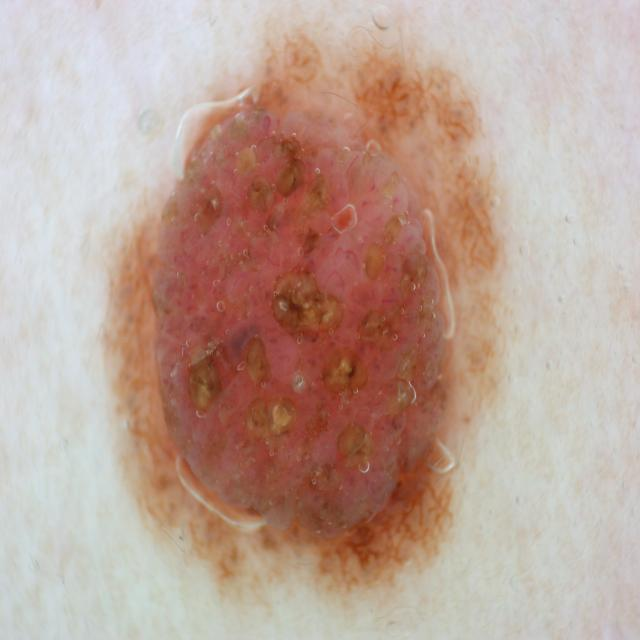Benign: (101, 59, 502, 583)
